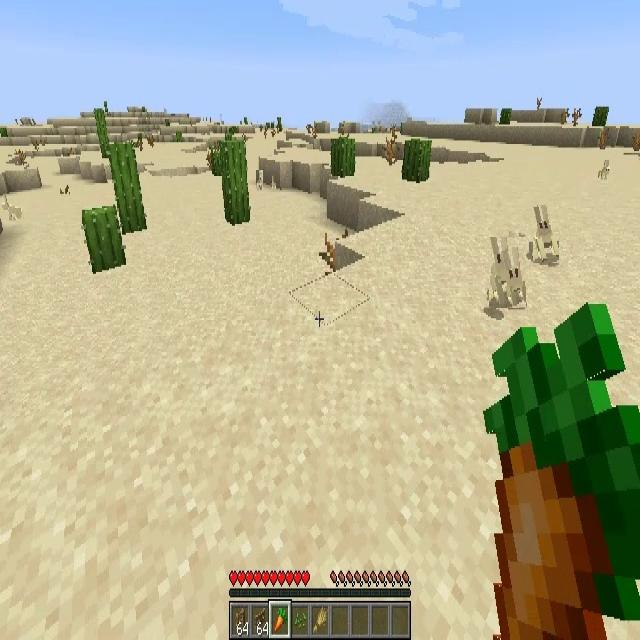rabbit: (489, 237, 526, 308), (533, 206, 559, 264), (1, 195, 22, 222), (596, 154, 611, 183), (256, 170, 263, 190)
